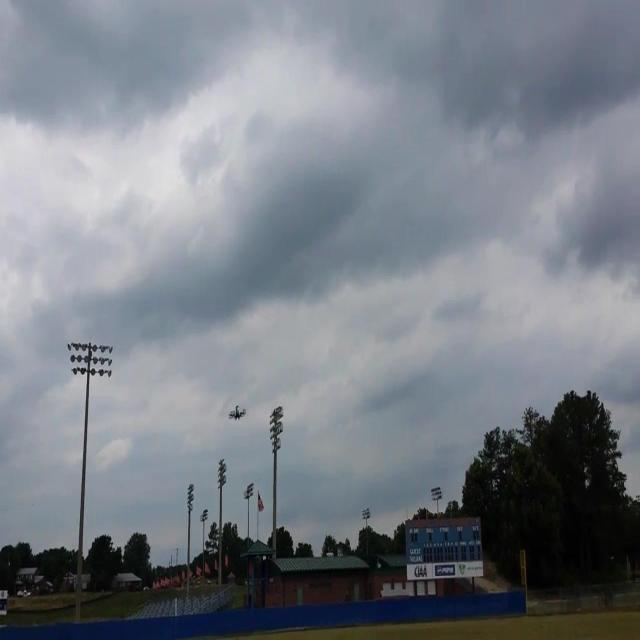drone: (227, 402, 247, 423)
